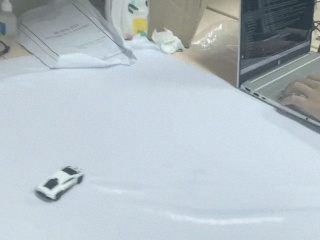cup: (146, 1, 209, 49)
toy_car: (35, 166, 85, 201)
